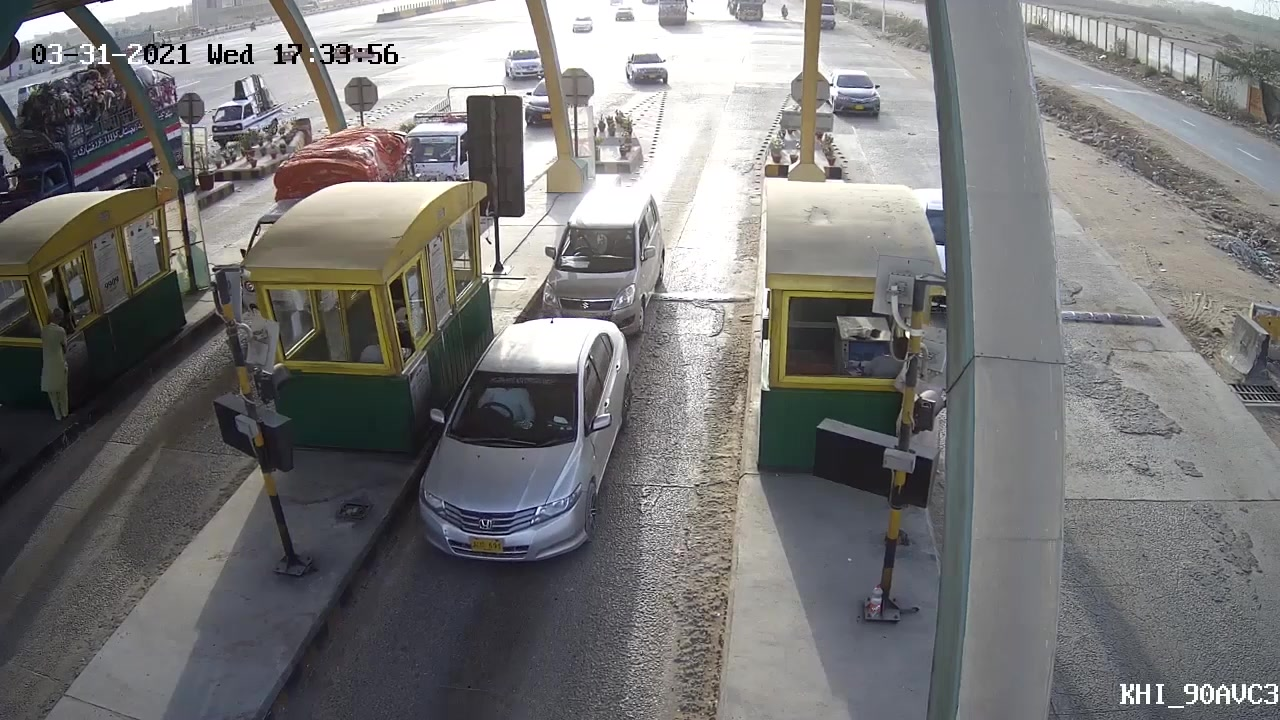F1: (421, 312, 627, 564)
